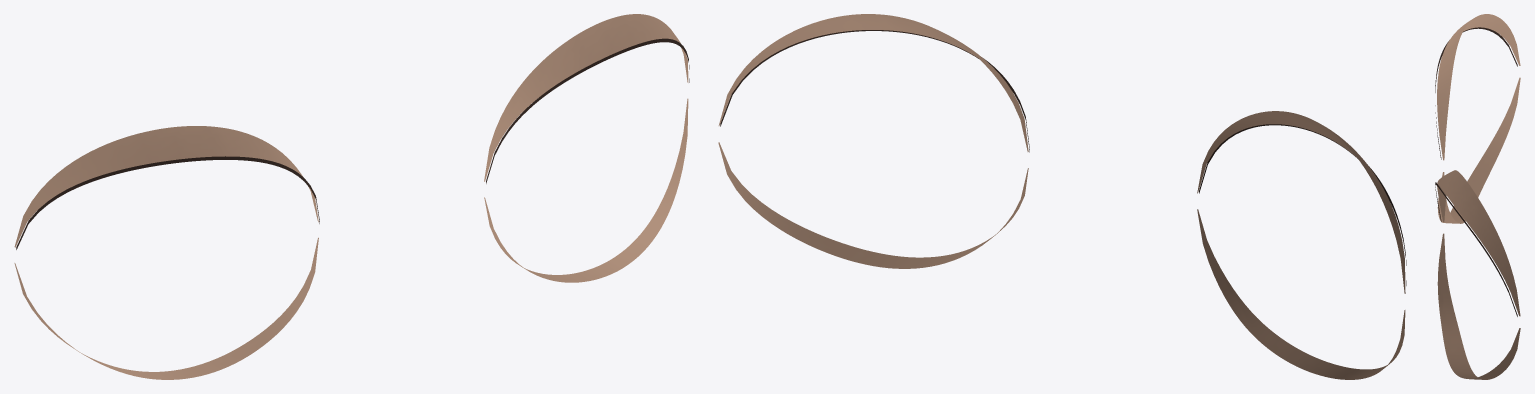
File: human-eyelids-v4.glb
3 views of the same model, side by side, from view 1: azimuth 30°, elevation 25°; view 2: azimuth 150°, elevation 25°; view 3: azimuth 270°, elevation 25° (orthographic). The views are drawn at different scales.
Visible parts, largest first — view 1: Paupieres_Sculptees; view 2: Paupieres_Sculptees; view 3: Paupieres_Sculptees.
Boxes of the visible parts, <box> form: Paupieres_Sculptees: <box>14,14,689,379</box>; Paupieres_Sculptees: <box>718,14,1406,379</box>; Paupieres_Sculptees: <box>1435,14,1520,379</box>.
Size of the model in its own units: 0.3497 by 0.122 by 0.0505.
